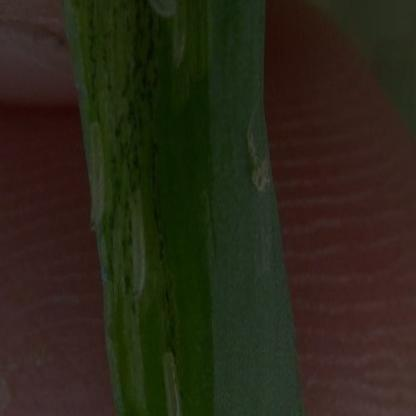whorl-maggot: (86, 112, 104, 235), (128, 184, 146, 306), (168, 1, 191, 76), (160, 348, 183, 416)
